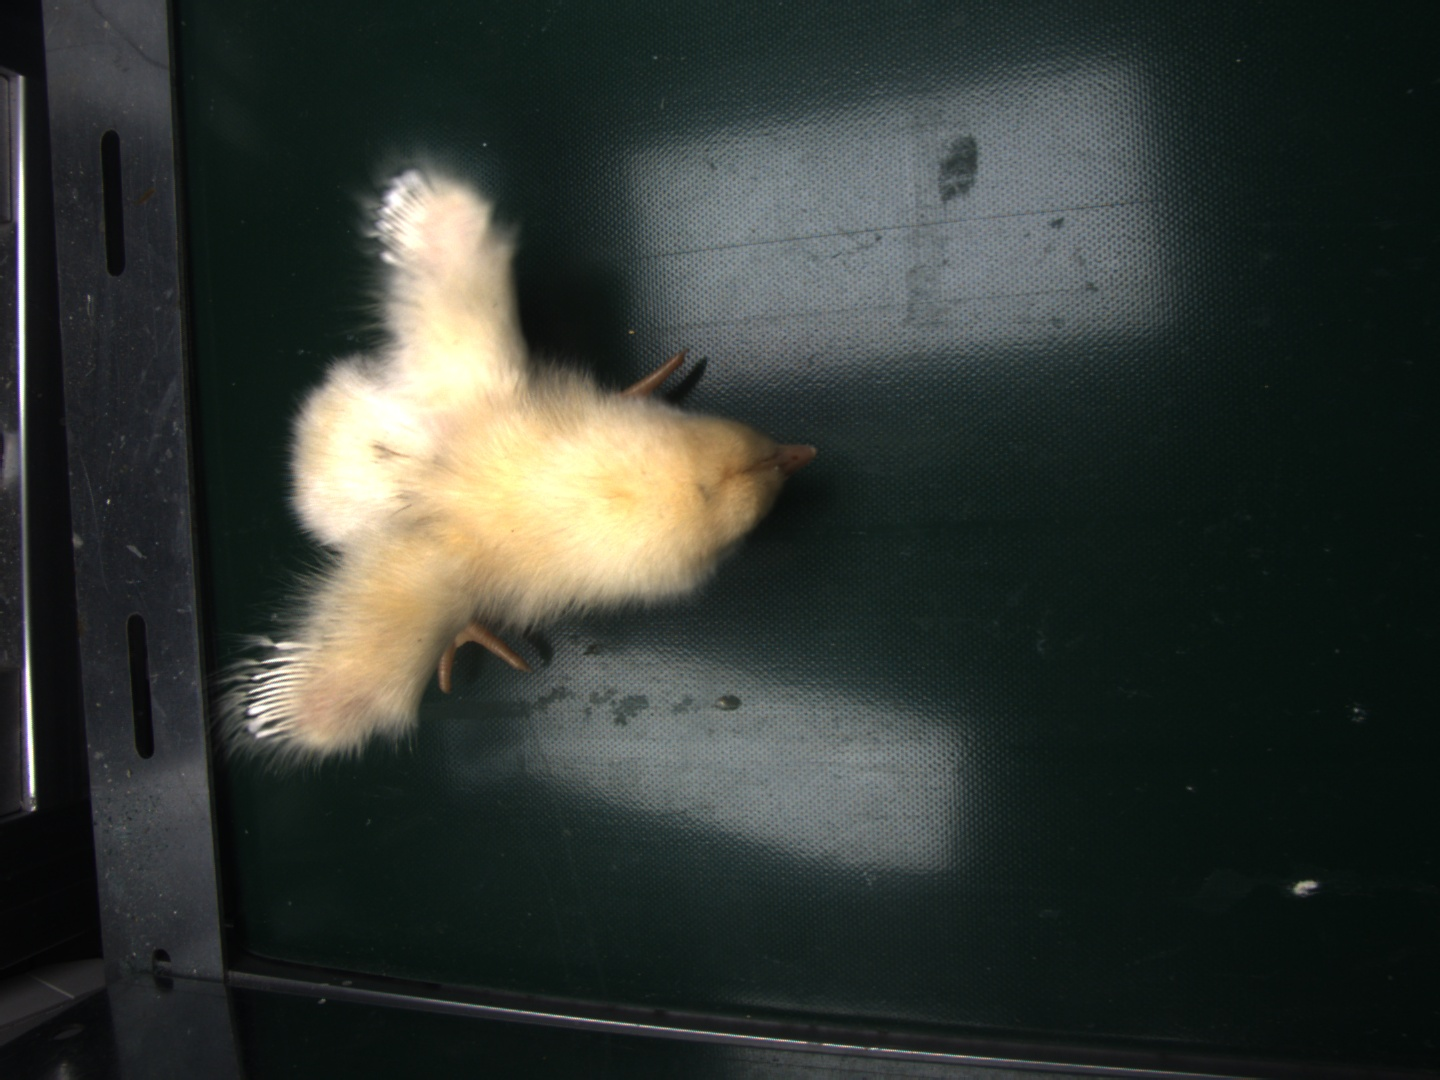male: (246, 639, 317, 742)
